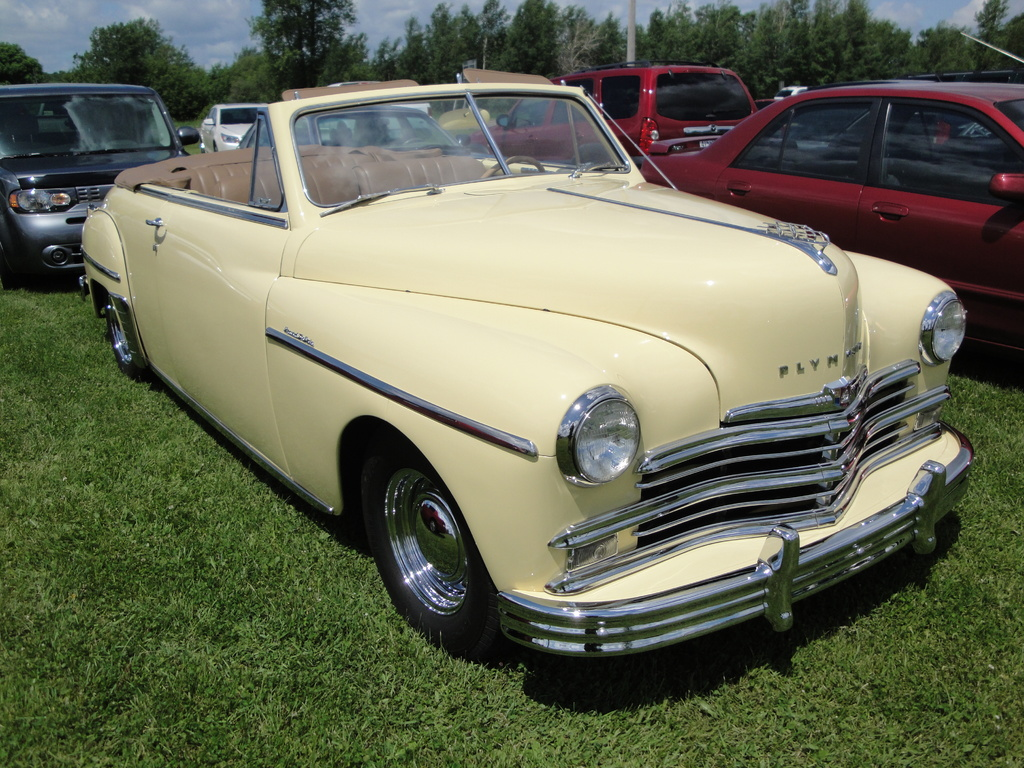mobil: (98, 83, 1004, 693)
